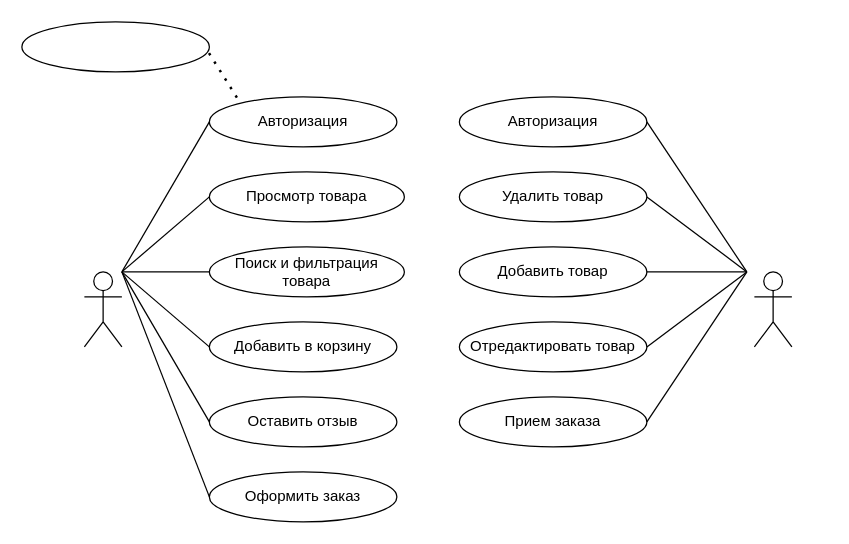
Some shapes in this 849 by 544 pixel diagram are drawn without their labels. Here are the shapes that lost their labels. From the top down, the centre of each, then its label:
At (x=115, y=46): "Регистрация".
At (x=102, y=309): "Пользователь".
At (x=772, y=309): "Администратор".
